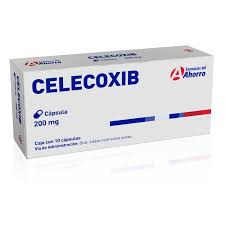Celecoxip: (32, 67, 138, 94), (16, 76, 23, 124), (87, 54, 138, 57)
